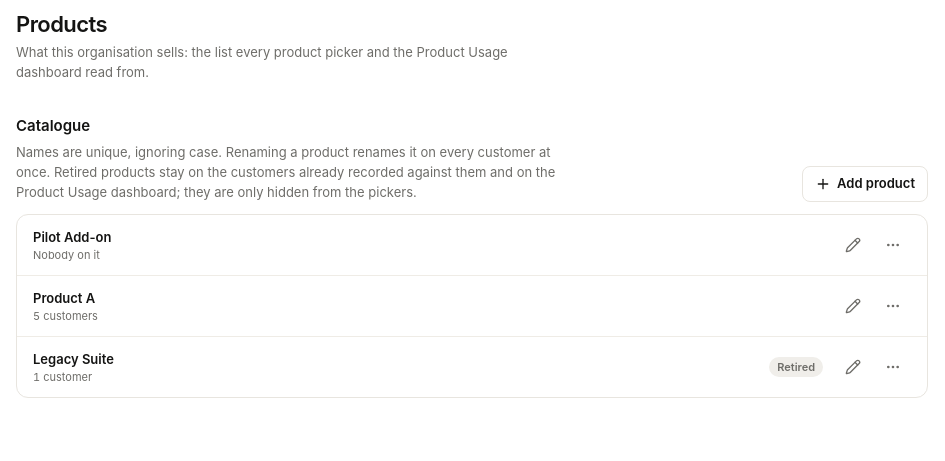
ProductsPage › brings a retired product back
expect the text "Legacy Suite" is shown: met, box [33, 351, 114, 367]
Click the button named "More actions for Legacy Suite": (893, 367) [875, 349, 911, 385]
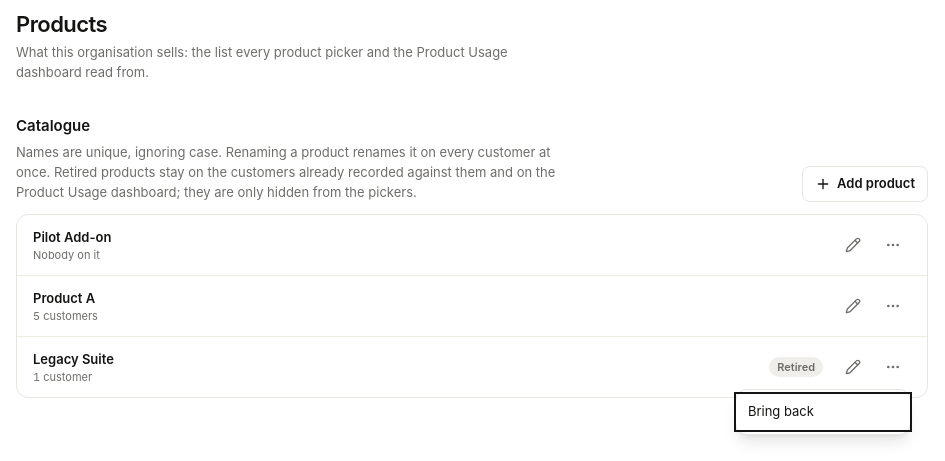
Click the menu item "Bring back": (823, 412) [736, 394, 910, 430]
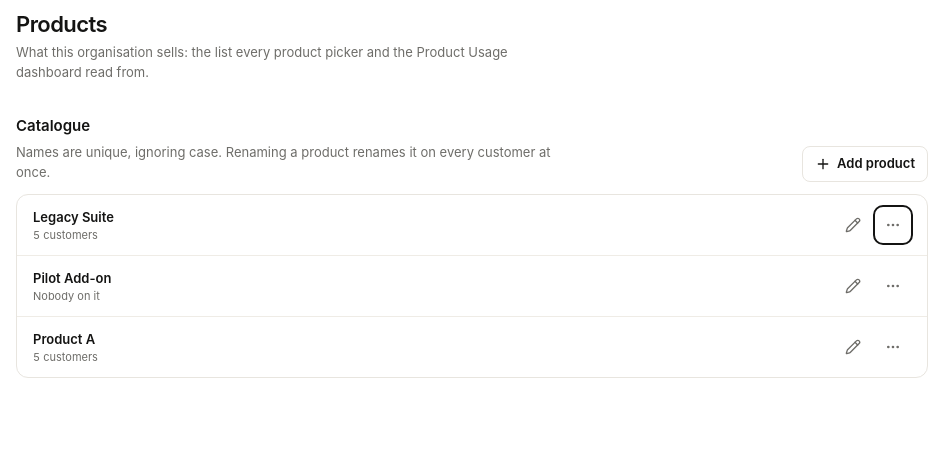
expect the text "Retired" is gone: met
